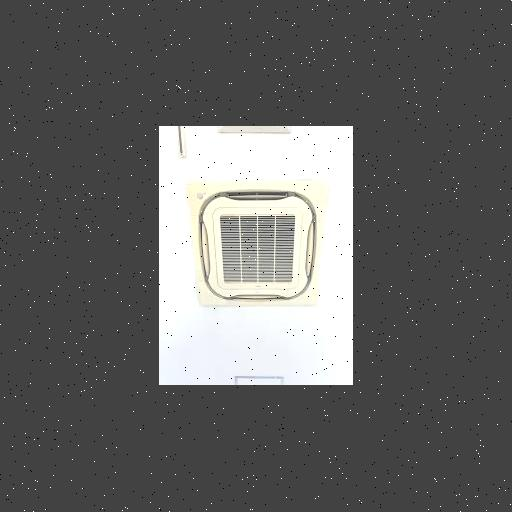4-way-ac: (184, 180, 326, 308)
